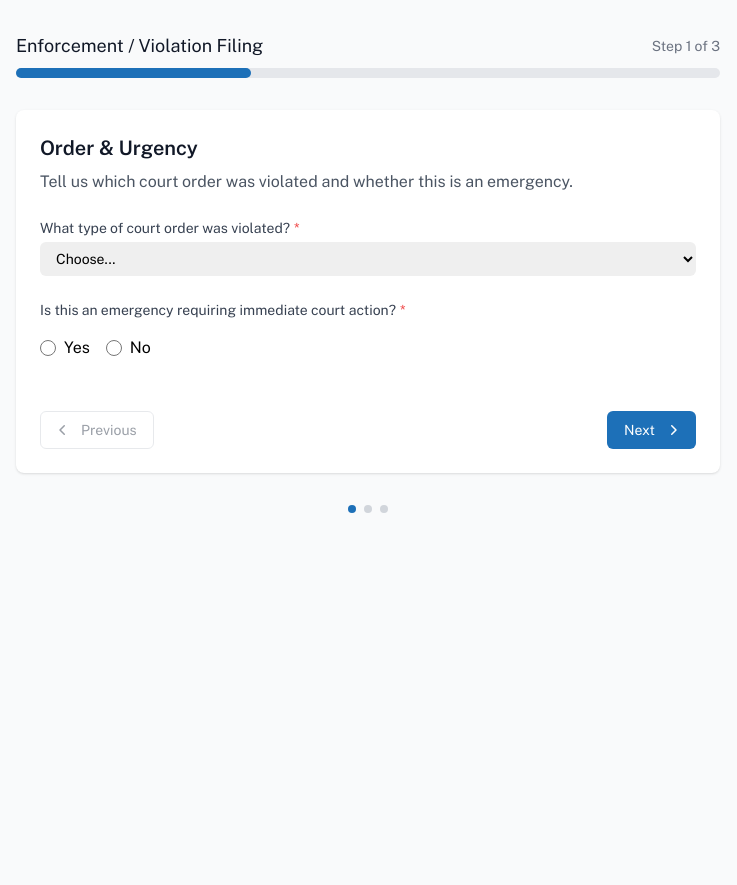
Test case: ViolationIntake › wizard navigation › advances through all three steps
Expected: the heading "Order & Urgency" is shown, [40,136,198,160]
Click the button "Next": (652, 430) [607,411,696,449]
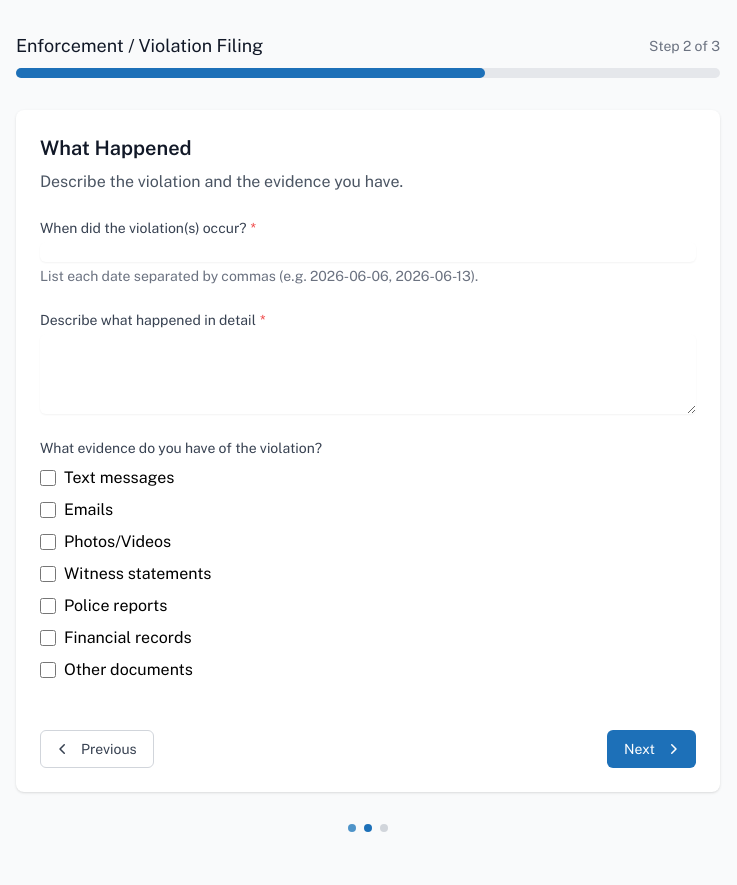
Expected: the heading "What Happened" is shown, [40,136,192,160]
Click the button "Next": (652, 749) [607,730,696,768]
(page scrolled)
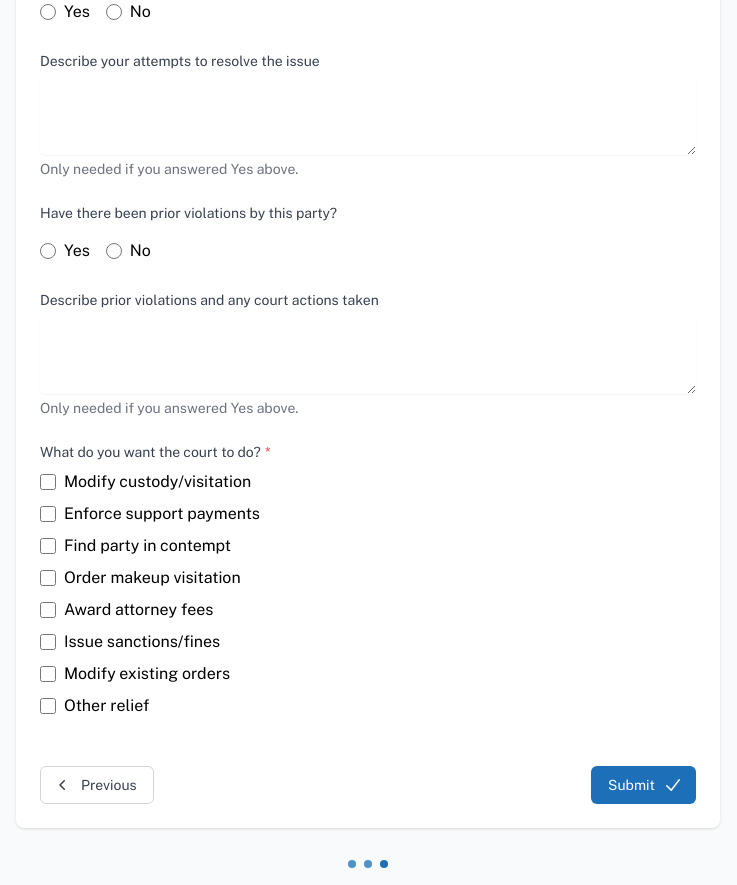
Expected: the button "Submit" is shown, [591,766,696,804]
